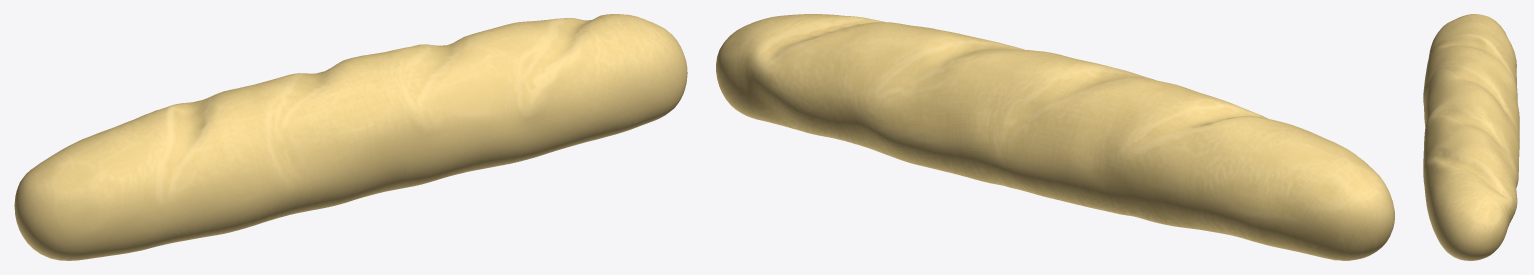
File: SM_Bread_T1.fbx
The picture shows the model from 3 angles, left to right: view 1: azimuth 30°, elevation 25°; view 2: azimuth 150°, elevation 25°; view 3: azimuth 270°, elevation 25°; orthographic projection. The views are drawn at different scales.
Parts seen in each view (by area): view 1: SM_Bread_T1; view 2: SM_Bread_T1; view 3: SM_Bread_T1.
Part boxes in pixels (box(x1,y1,x2,y2)): SM_Bread_T1: box(14, 14, 687, 260); SM_Bread_T1: box(716, 14, 1394, 260); SM_Bread_T1: box(1423, 14, 1519, 260).
Bounding box in the file's own units: 289 × 52.1 × 56.29.
